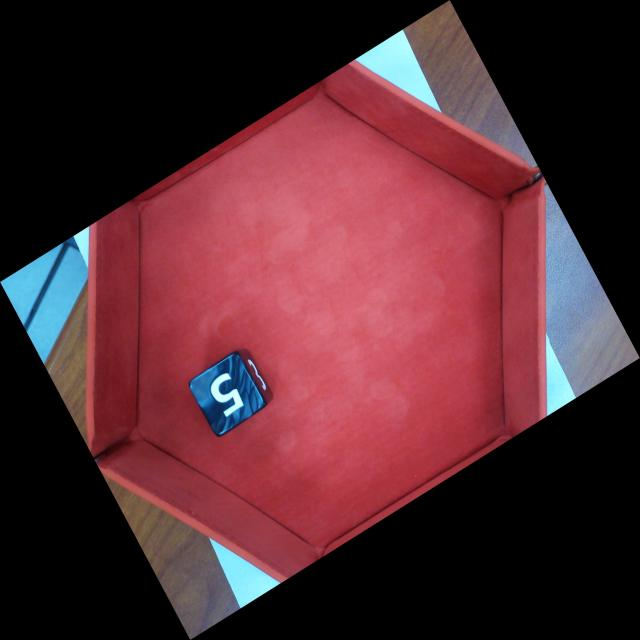dice: (194, 349, 267, 435)
